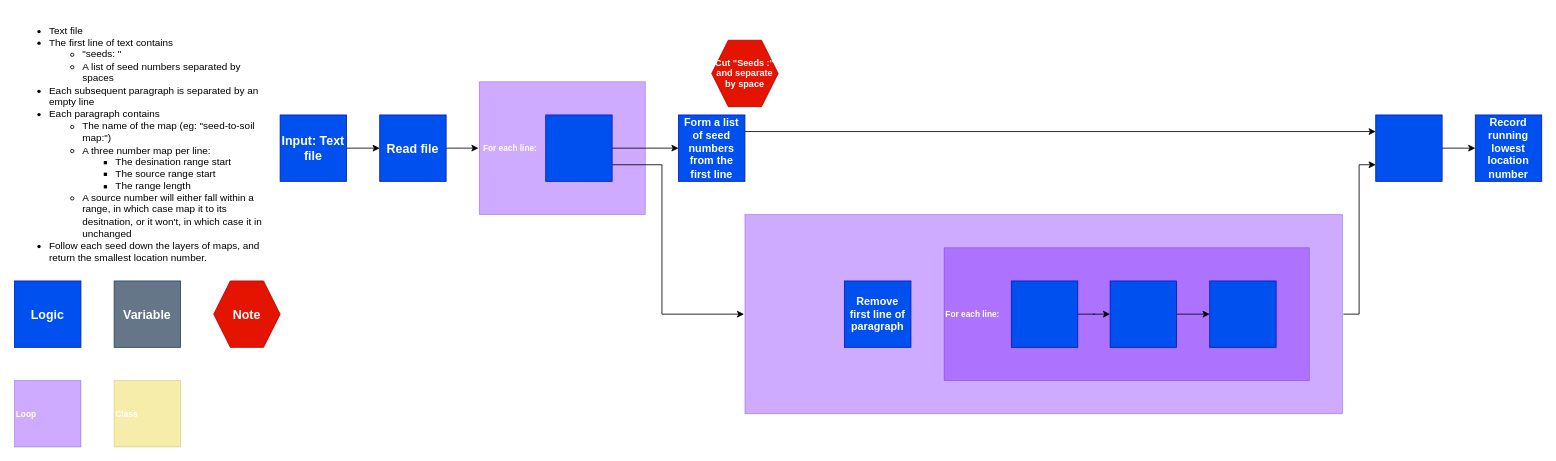
The diagram is 1556 pixels wide and 461 high, and some of its shapes have lost their labels. Each missing label, with the box of its shape:
Divide into paragraphs separated by empty lines: (545, 114, 612, 181)
Find upper bound of source range and offset: (1209, 280, 1276, 347)
For each paragraph:: (744, 214, 1343, 414)
Order each trio by lowest source range start: (1109, 280, 1177, 347)
Pass seed numbers through created model: (1375, 114, 1442, 181)
Separate into three individual numbers: (1011, 280, 1078, 347)
